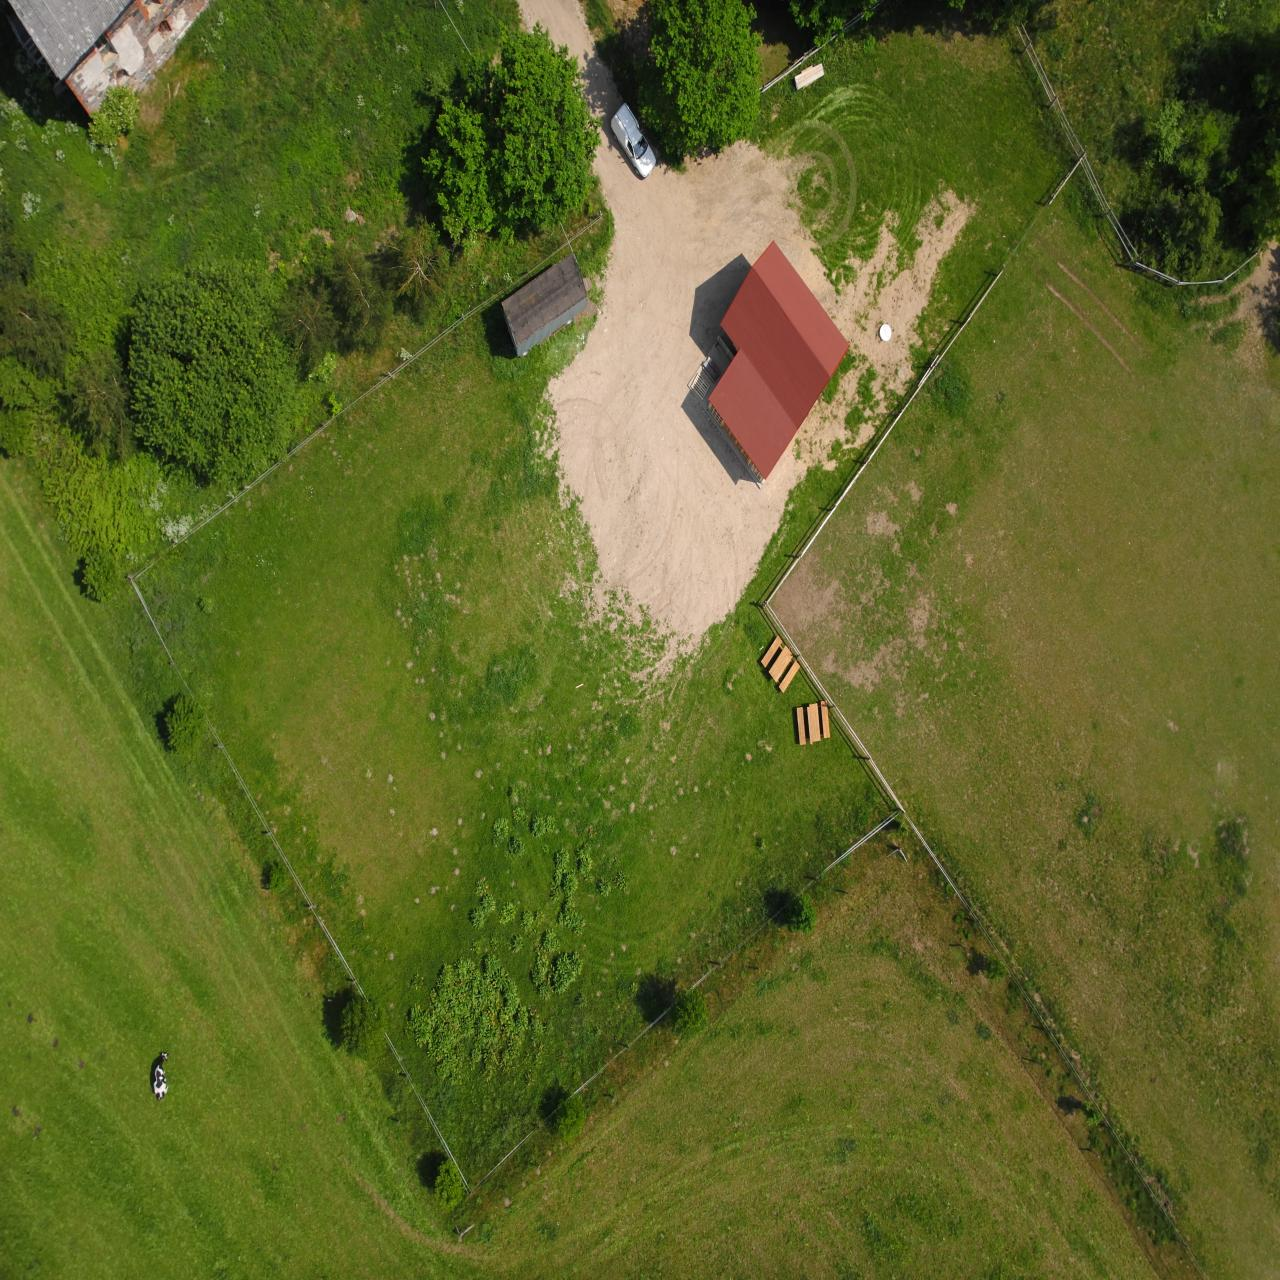cow: (1111, 180, 1126, 228)
